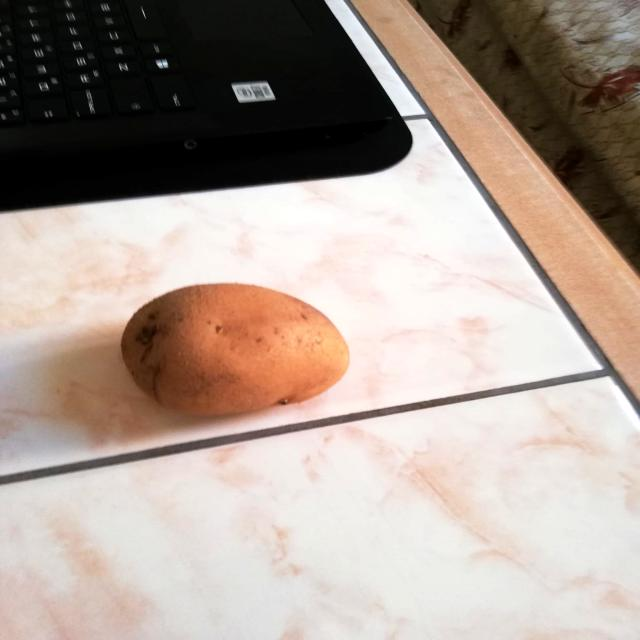potato: (117, 274, 354, 424)
